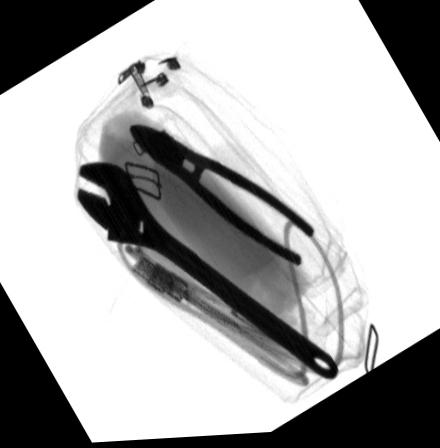Pliers: (125, 121, 316, 271)
Wrench: (75, 164, 340, 386)
